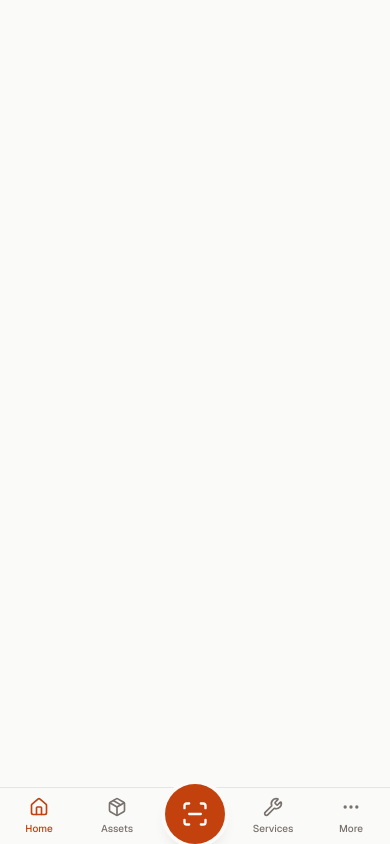
Scenario: BottomNav › opens the More sheet when tapped and shows the expected entries
Click the button with test id "bottom-nav-more" at (351, 816), box left=312, top=788, right=389, bottom=843
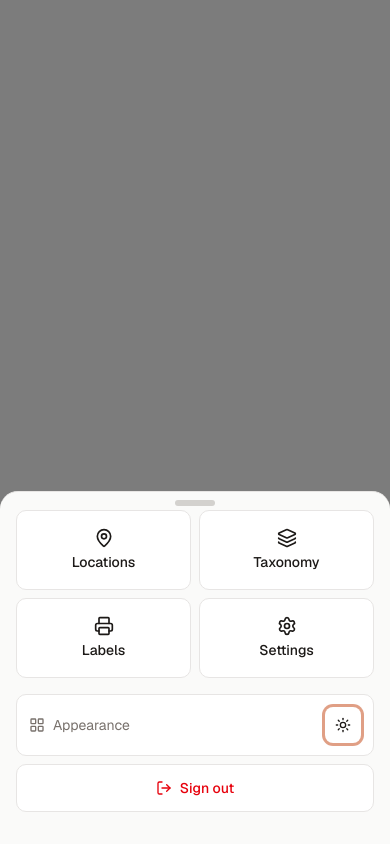
Expected: the list with test id "more-sheet-grid" is shown, left=16, top=510, right=374, bottom=678
Expected: the button with test id "more-sheet-signout" is shown, left=16, top=764, right=374, bottom=812
